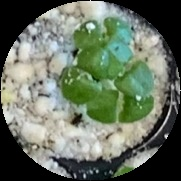Basil: (98, 38, 155, 100), (56, 45, 110, 106), (85, 91, 163, 129), (71, 18, 134, 49)
